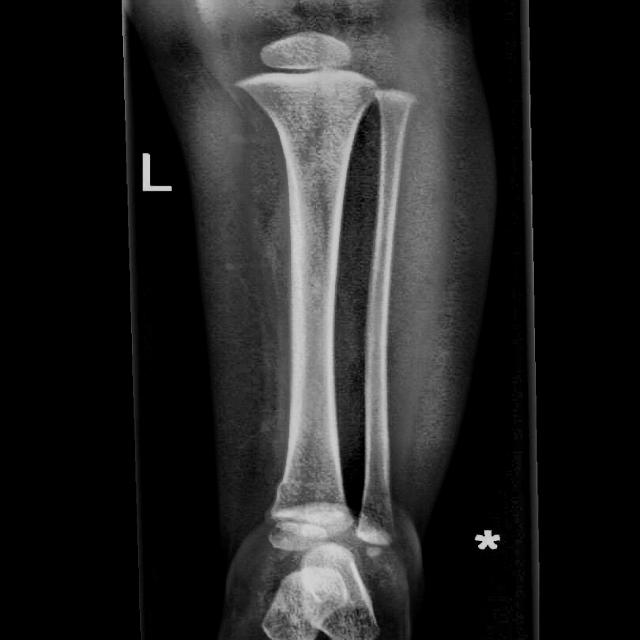line: (274, 475, 312, 493)
